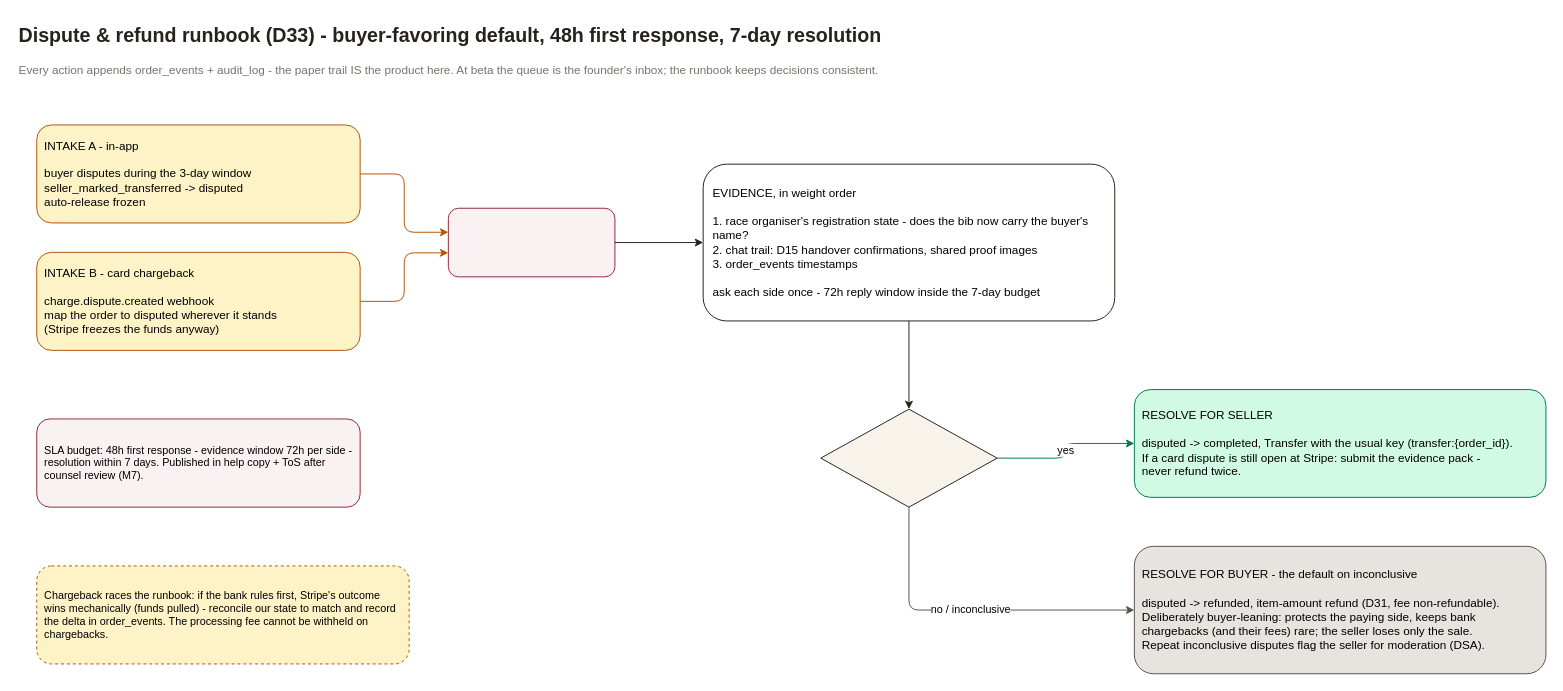
Image size: 1563x691. Some labels were removed from this diagram. The shapes that lost their labels are listed below. From the top down, each one's box as (x1, y1, x2, y2) in pixels, then its label:
(447, 207, 615, 277): first human response within 48h
(820, 408, 997, 507): transfer verified?
